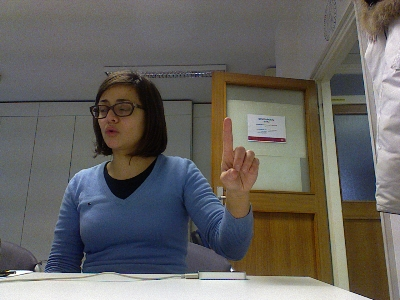食指: (218, 116, 259, 194)
